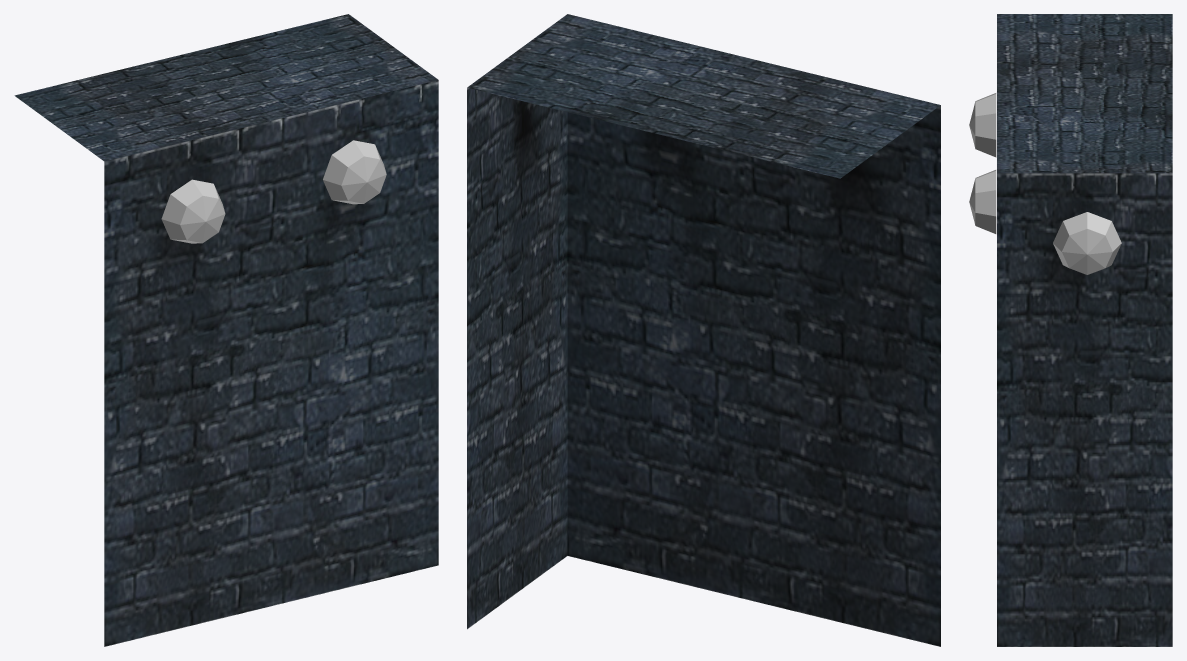
3 renders of one model, left to right at view 1: azimuth 30°, elevation 25°; view 2: azimuth 150°, elevation 25°; view 3: azimuth 270°, elevation 25°, orthographic. The views are drawn at different scales.
Visible parts, largest first — view 1: xs_wj24; view 2: xs_wj24; view 3: xs_wj24.
Part boxes in pixels (box(x1,y1,x2,y2)): xs_wj24: box(14, 14, 438, 646); xs_wj24: box(467, 14, 940, 646); xs_wj24: box(969, 14, 1172, 646).
Size of the model in its own units: 819 by 1057 by 412.
